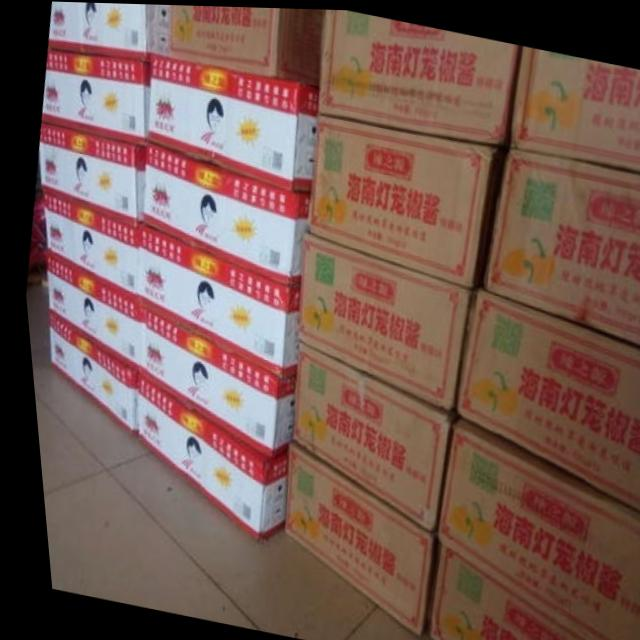box: (427, 410, 640, 640), (447, 286, 640, 509), (301, 109, 497, 286), (478, 144, 640, 342), (292, 229, 467, 409), (284, 340, 443, 530), (275, 434, 421, 635), (316, 8, 516, 139), (128, 370, 279, 540), (131, 225, 295, 376), (137, 138, 306, 282), (145, 51, 320, 189), (128, 306, 288, 456), (417, 538, 582, 640), (508, 43, 640, 169), (168, 4, 325, 84), (40, 312, 129, 442), (36, 191, 137, 304), (36, 121, 141, 227), (40, 255, 132, 370), (39, 48, 147, 145), (46, 1, 170, 61)
